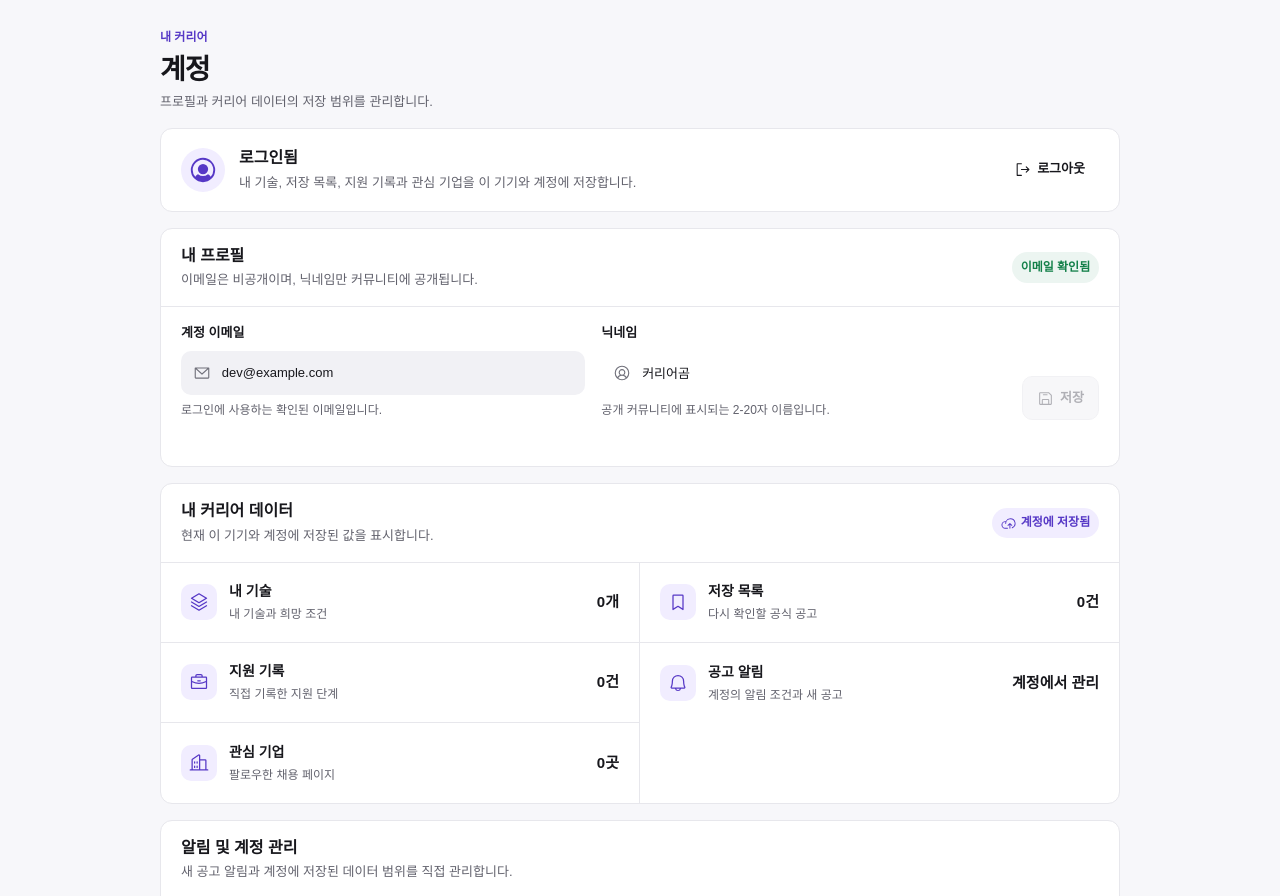
AccountOverview › validates and updates the public nickname without exposing the email
The image size is (1280, 896).
Check: the button "저장" is disabled, box [1022, 376, 1099, 420]
Replace the text in the field labelled "닉네임" with "x" at (817, 373), box [640, 351, 994, 395]
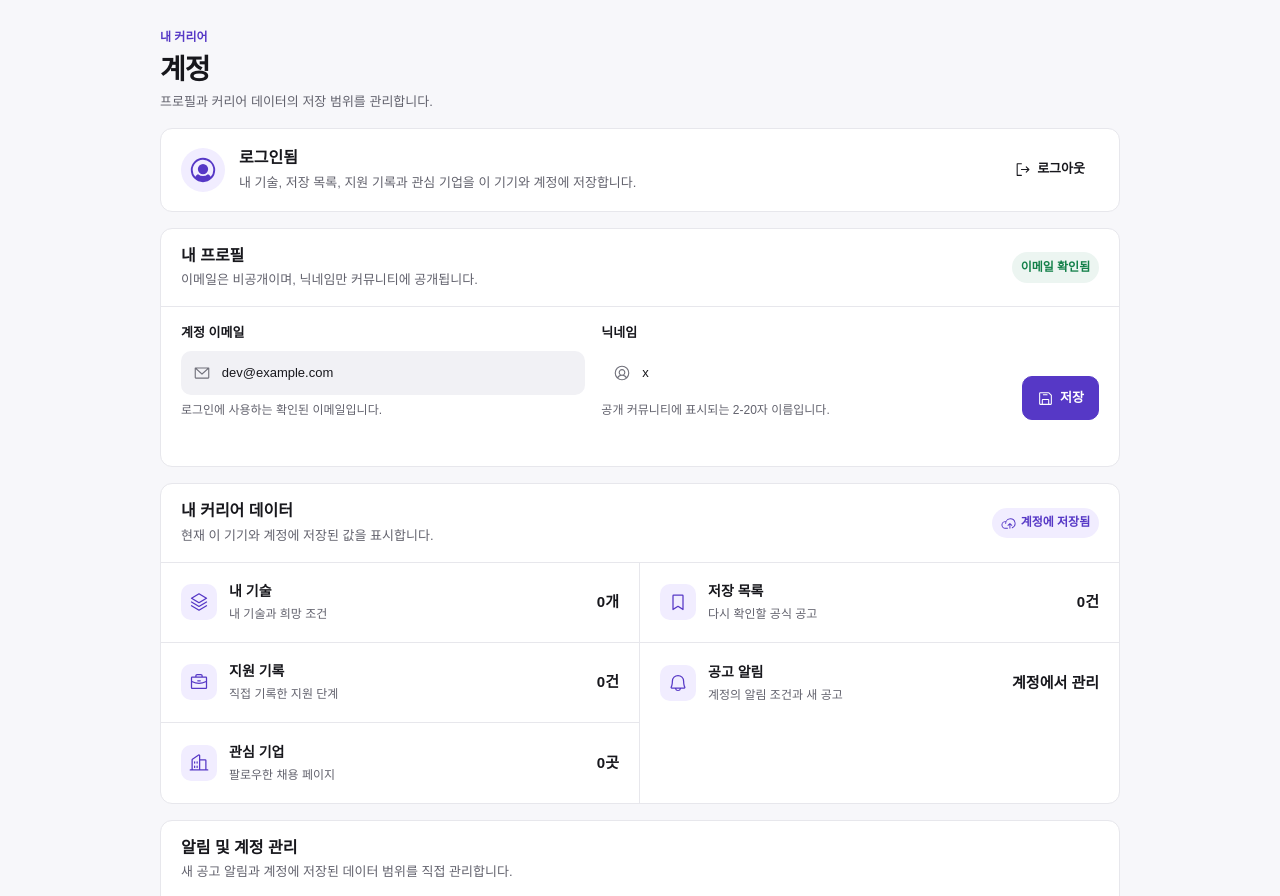
Click the button "저장" at (1060, 398), box [1022, 376, 1099, 420]
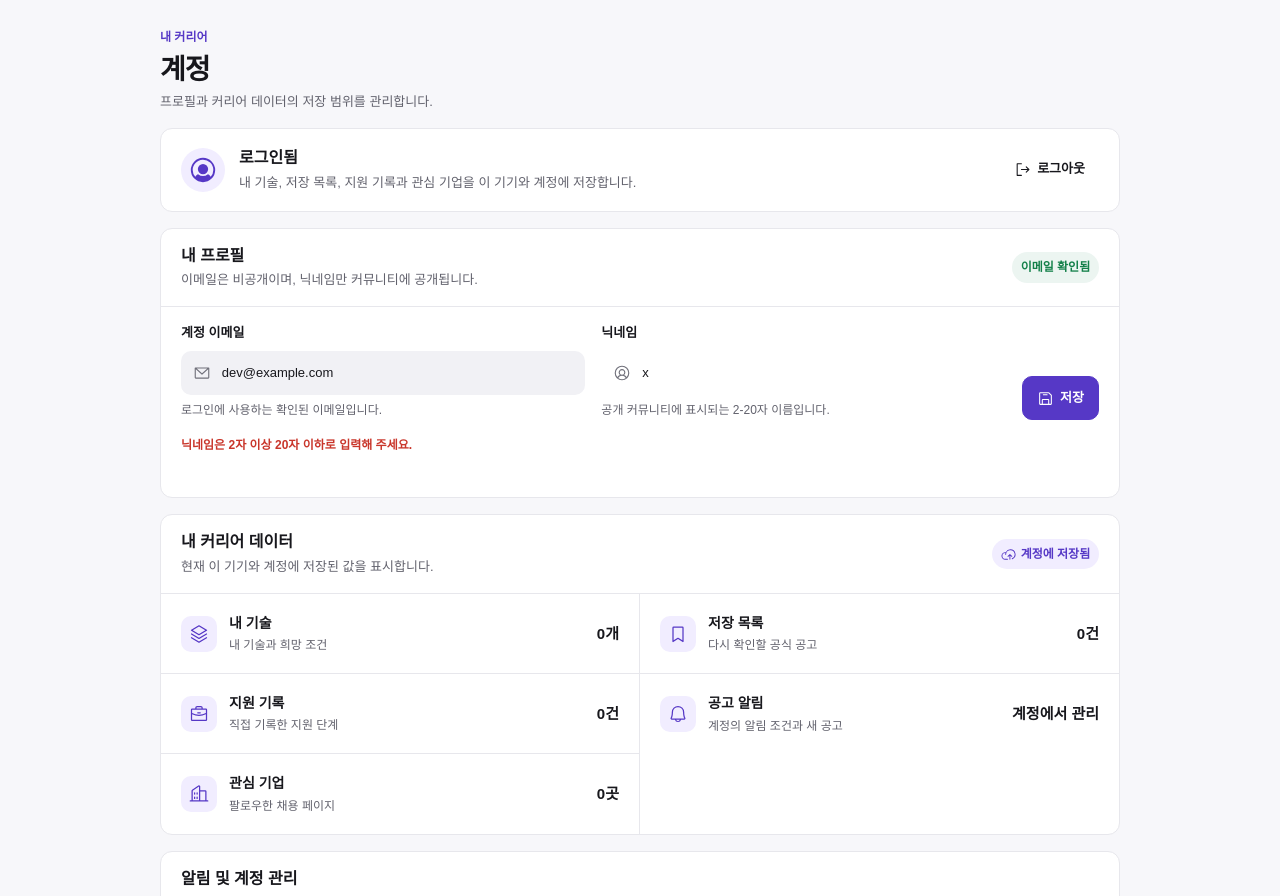
Check: the text "닉네임은 2자 이상 20자 이하로 입력해 주세요." is shown, box [181, 438, 412, 452]
Replace the text in the field labelled "닉네임" with " 새닉네임 " at (817, 373), box [640, 351, 994, 395]
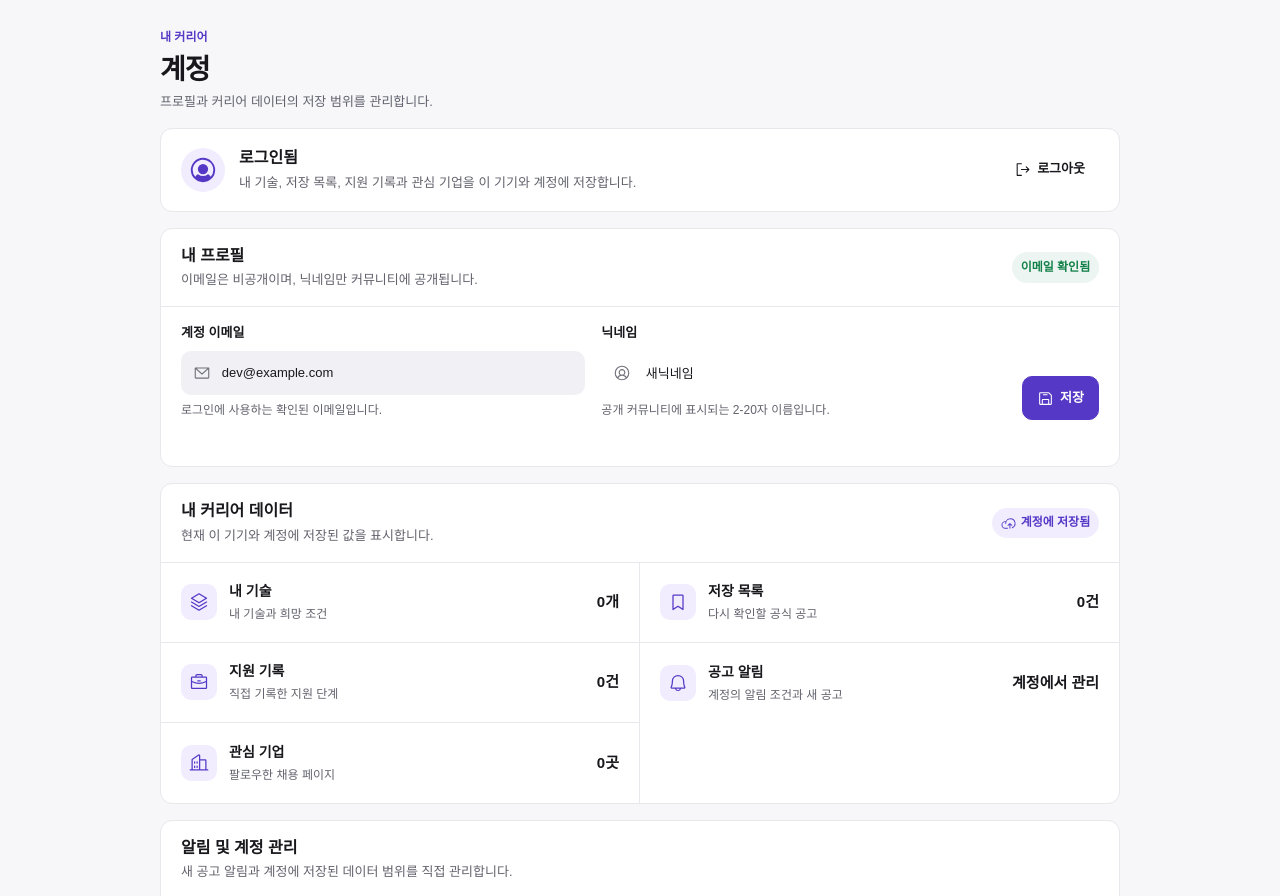
Click the button "저장" at (1060, 398), box [1022, 376, 1099, 420]
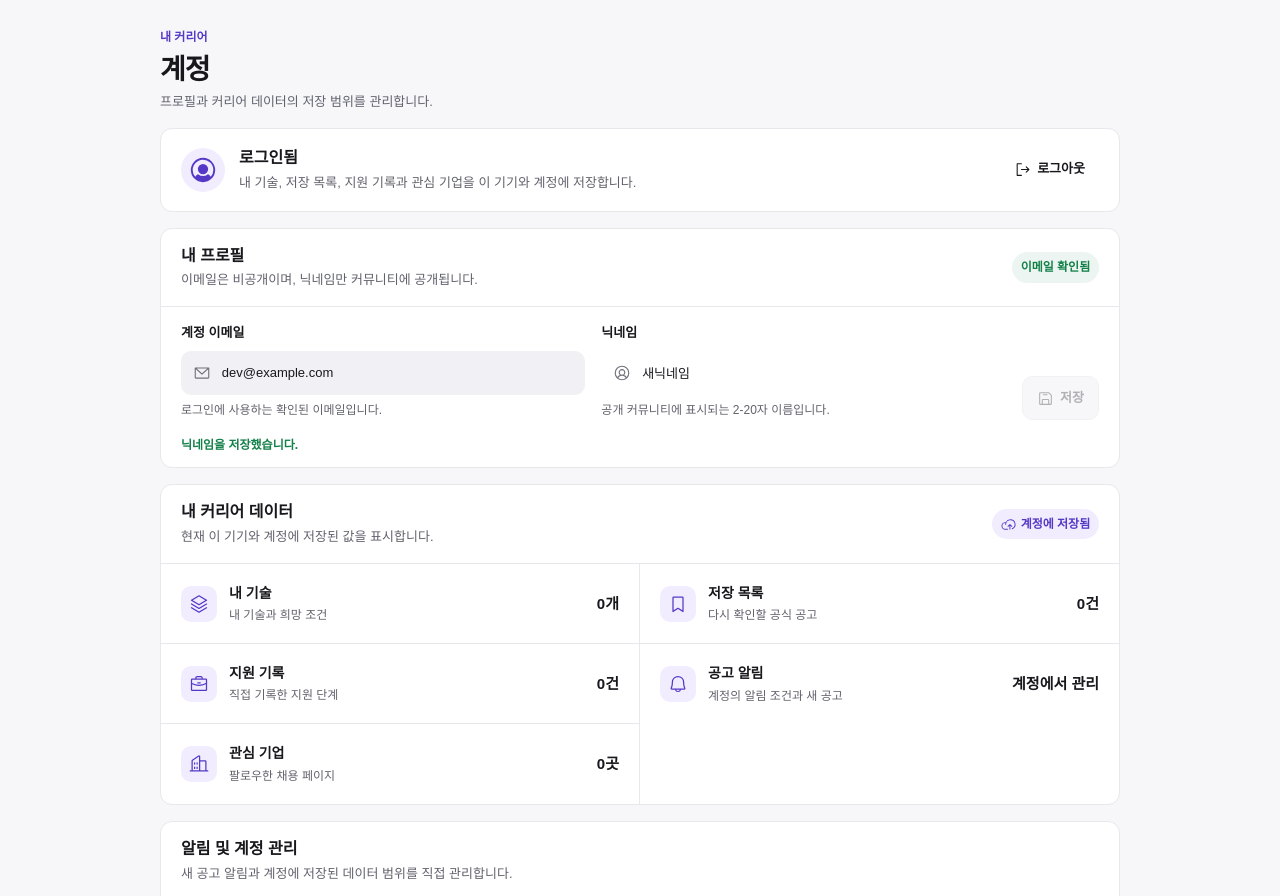
Check: the text "닉네임을 저장했습니다." is shown, box [181, 438, 298, 452]
